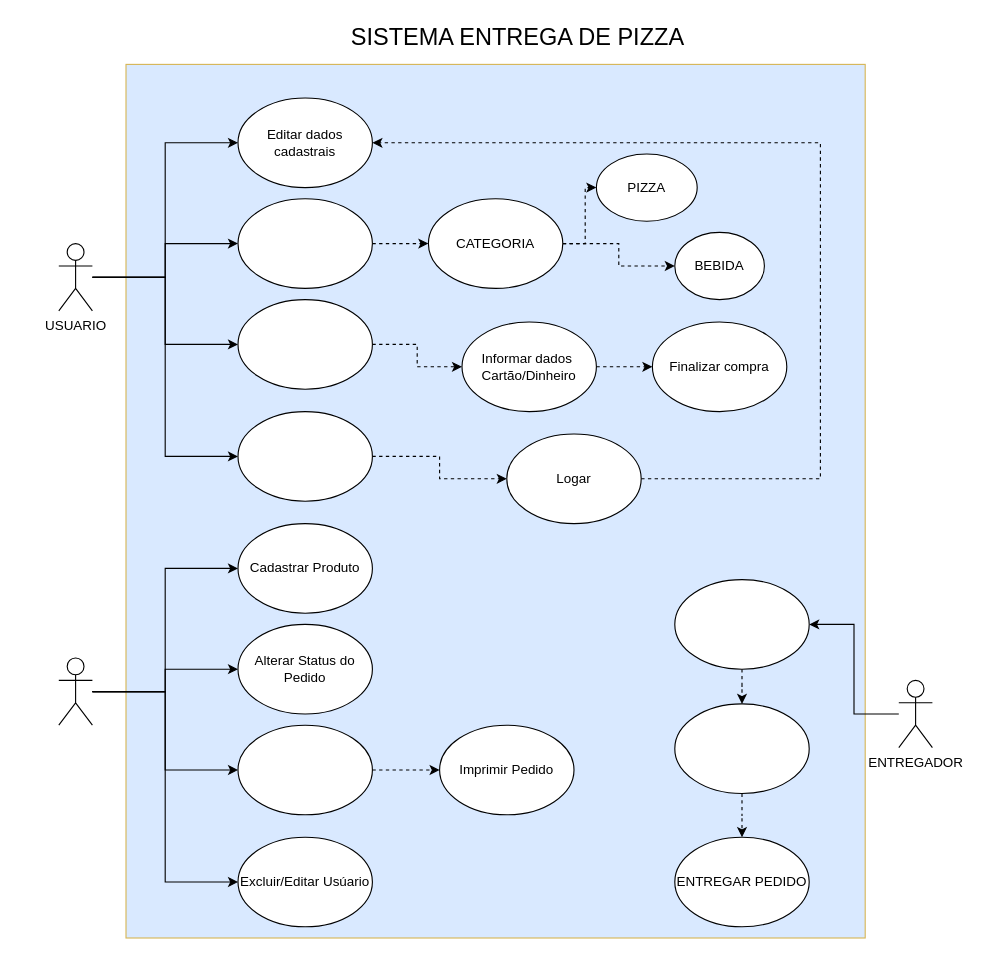
The diagram is 982 pixels wide and 958 high, and some of its shapes have lost their labels. Each missing label, with the centre of its shape:
"Adicionar ao carrinho" belongs at point (304, 343).
"ADMINISTRADOR" belongs at point (75, 691).
"Buscar" belongs at point (304, 243).
"Cadastrar Usuario" belongs at point (304, 455).
"Notificar Usuario" belongs at point (741, 748).
"Receber pedido" belongs at point (741, 623).
"Tirar Extrato do Pedido" belongs at point (304, 769).
